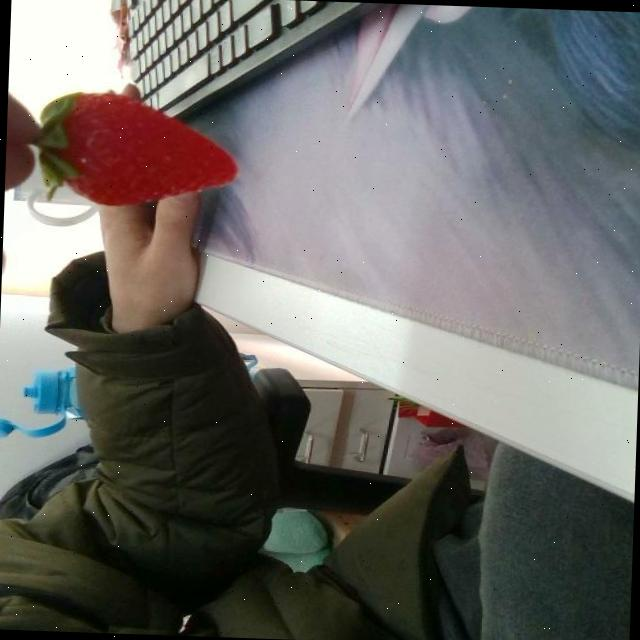strawberry: (38, 90, 240, 210)
